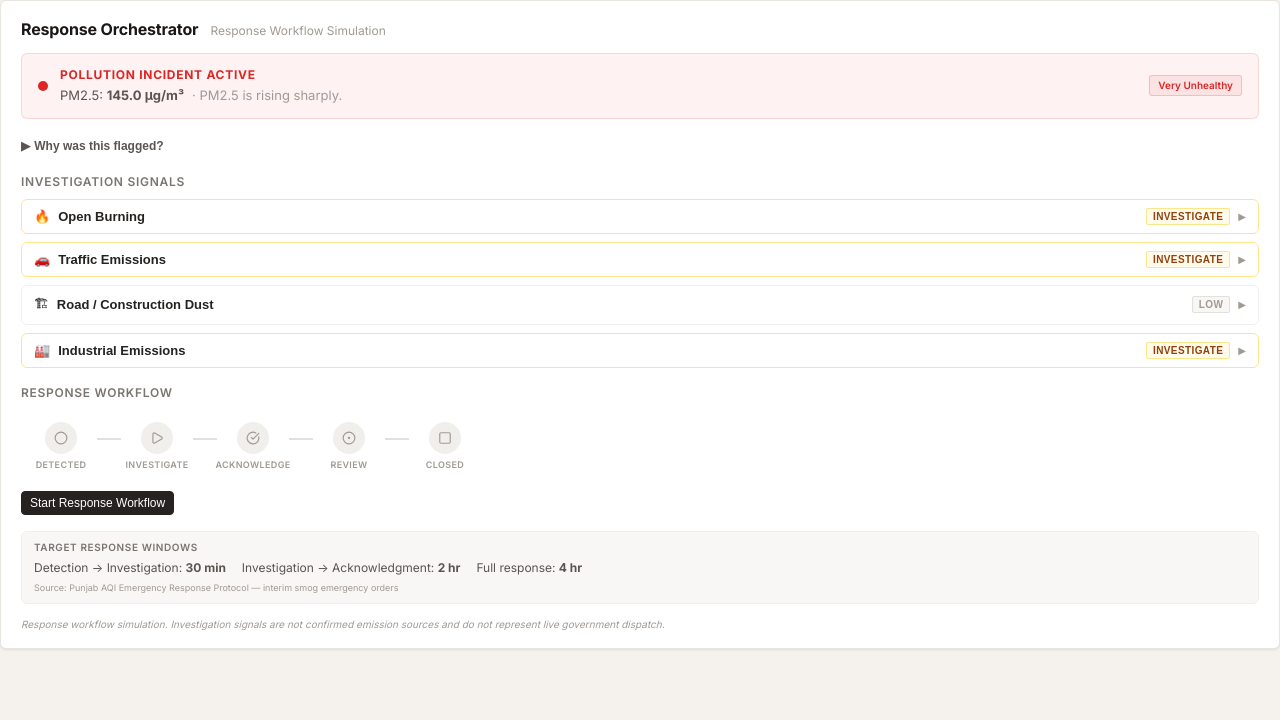
ResponseOrchestrator › workflow interaction › advances workflow from step 0 to step 1
The image size is (1280, 720).
Start the workflow
Click the button "Start Response Workflow" at (98, 503), box [21,491,174,515]
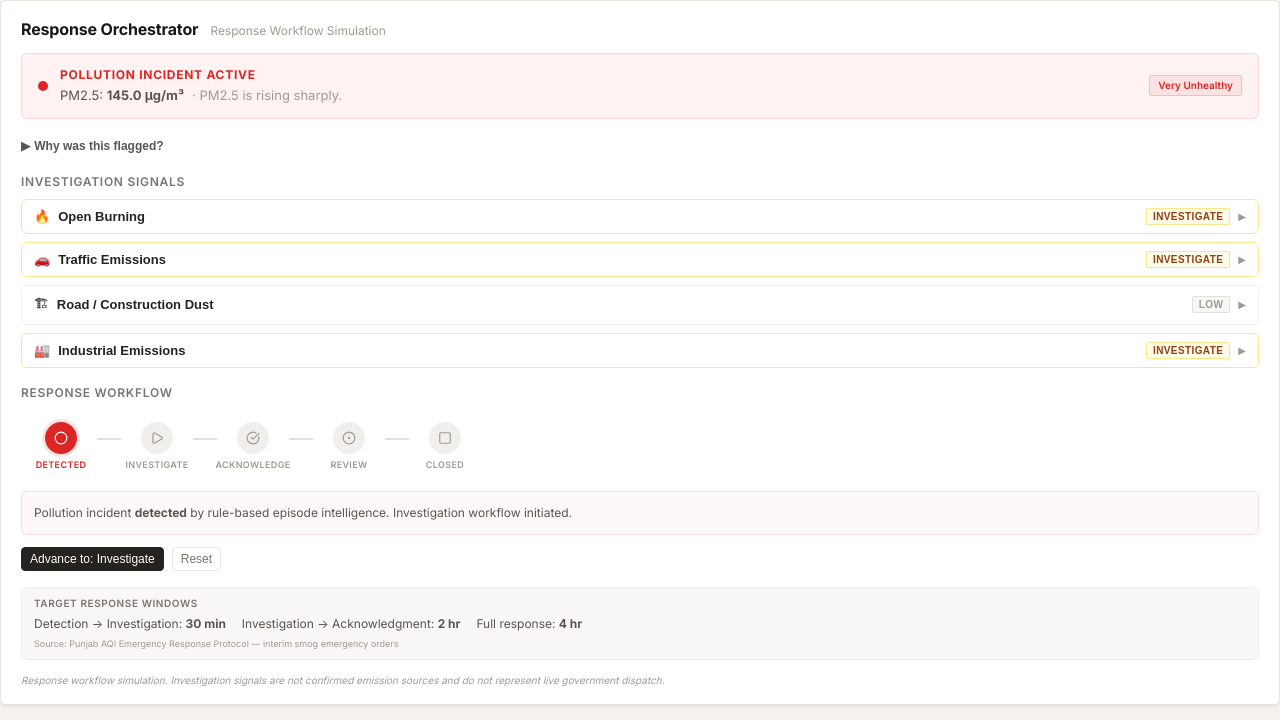
Now the button "Advance to: Investigate" is shown, box [21,547,164,571]
Now the text "rule-based episode intelligence" is shown, box [187,505,572,520]
